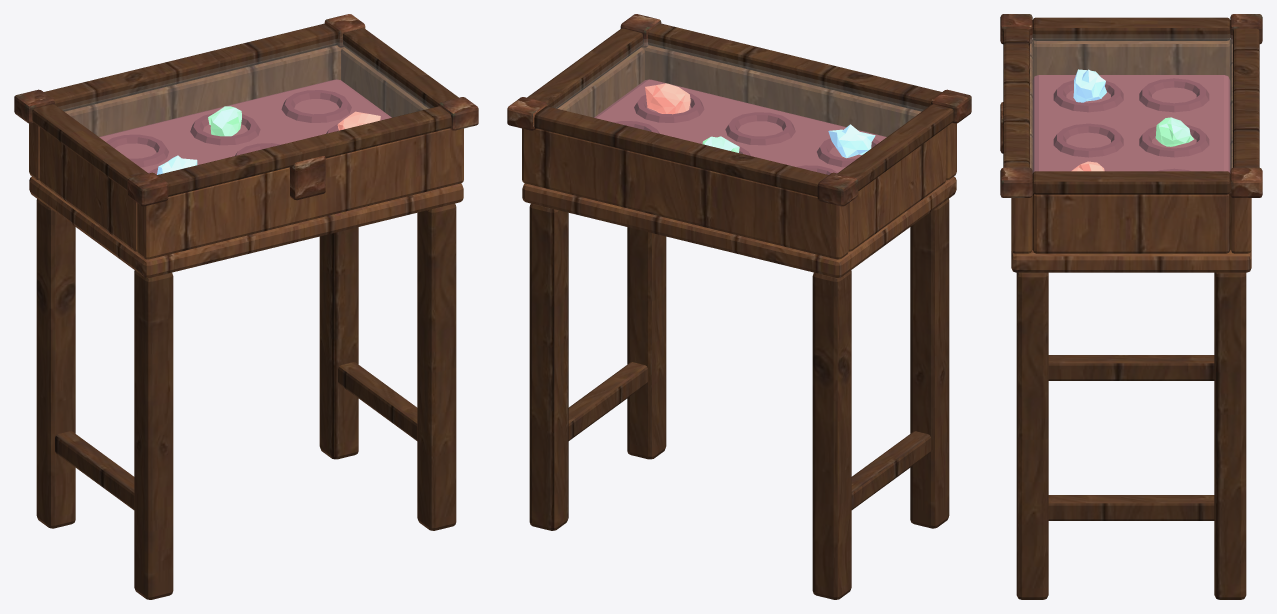
Rendered from gem_case.glb.
The picture shows the model from 3 angles, left to right: view 1: azimuth 30°, elevation 25°; view 2: azimuth 150°, elevation 25°; view 3: azimuth 270°, elevation 25°; orthographic projection.
Visible parts, largest first — view 1: model; view 2: model; view 3: model.
Part boxes in pixels (x1,y1,x2,y2): model: (14, 14, 478, 599); model: (507, 14, 971, 599); model: (1000, 14, 1262, 599).
Bounding box in the file's own units: 0.74 × 0.885 × 0.49.
Materials: 9 (3 with a texture image).
